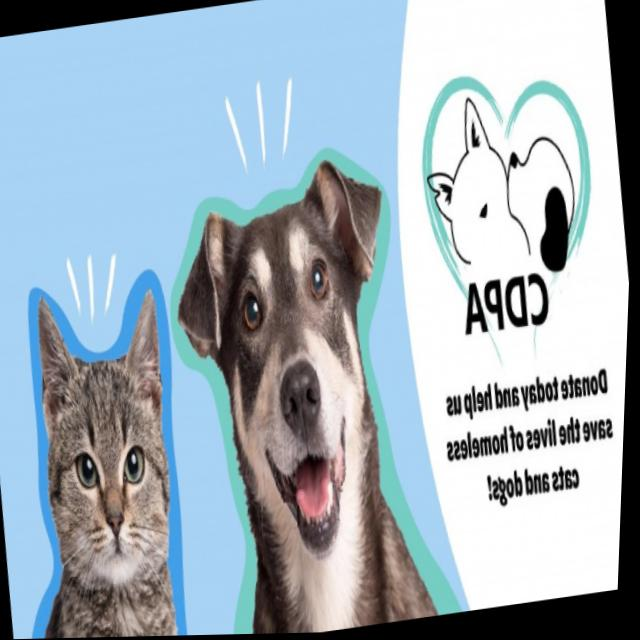Cat: (0, 258, 214, 640)
Dog: (157, 155, 443, 637)
